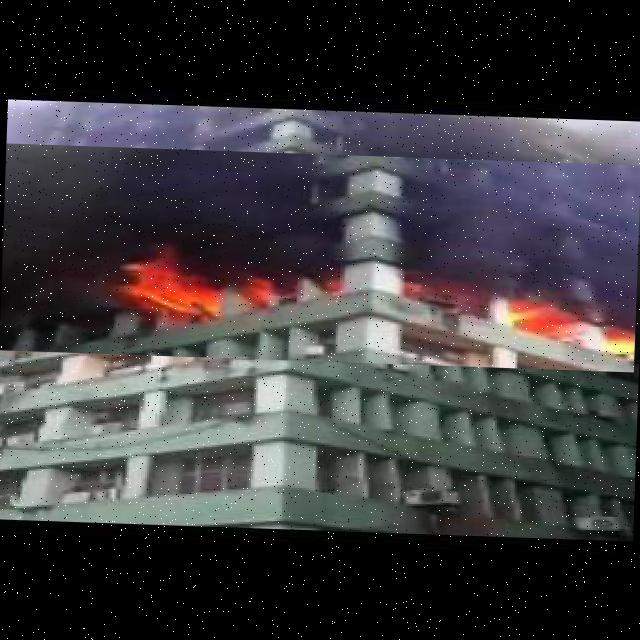fire: (0, 143, 640, 372)
